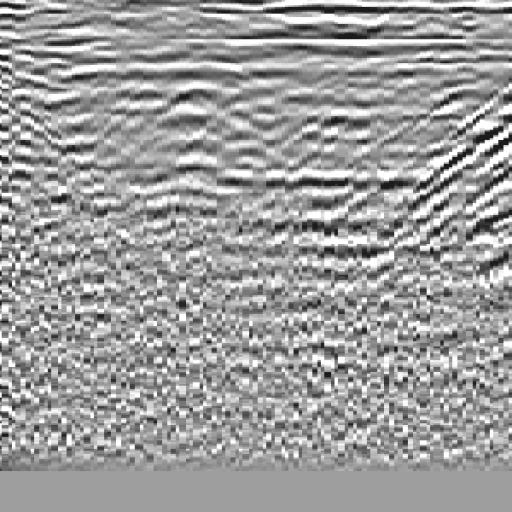metalic: (117, 37, 295, 274)
nonmetalic: (385, 71, 512, 280)
